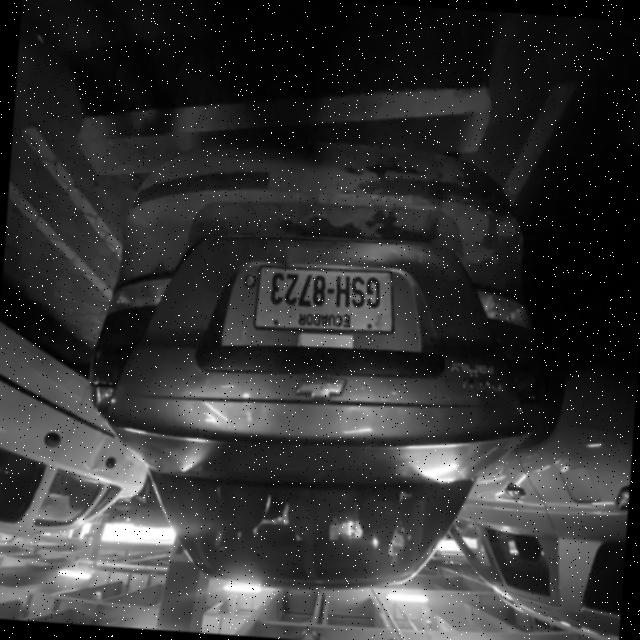Placa: (254, 266, 392, 331)
